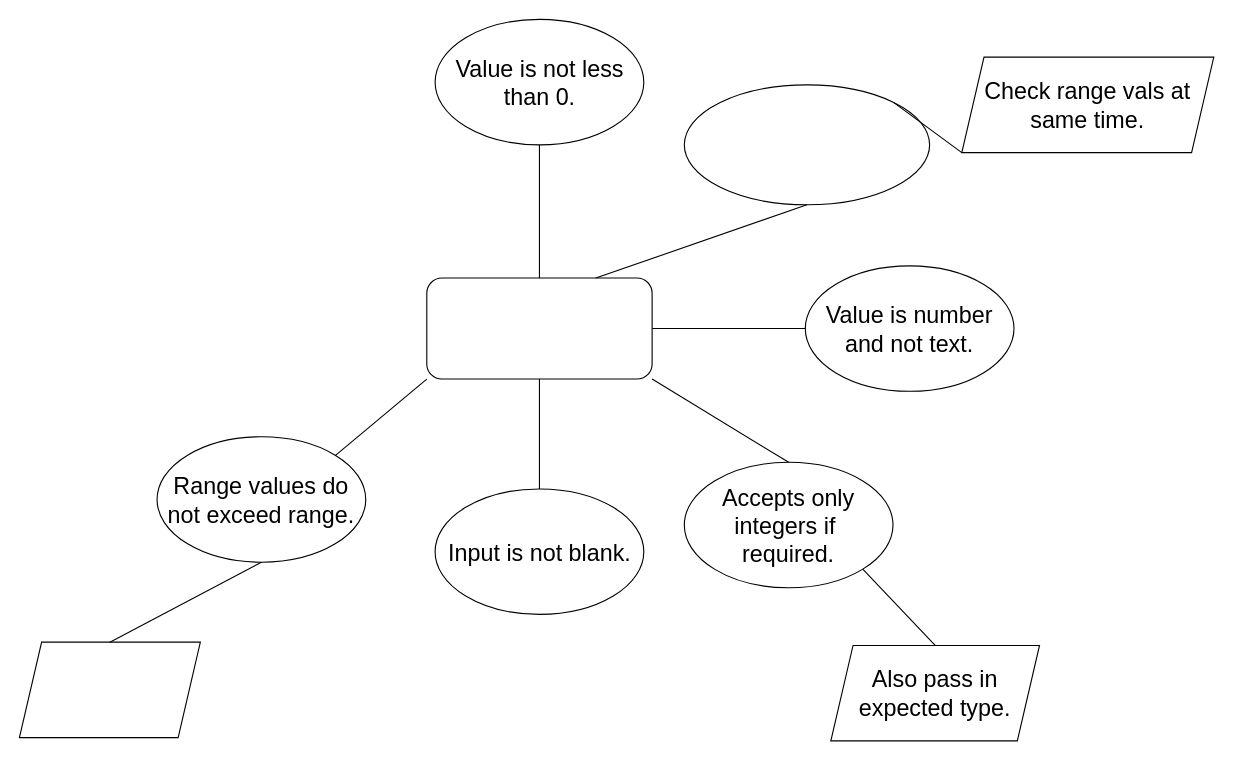
This 1233x760 diagram has some shape labels left out. Here are the shapes that lost their labels. From the top down, the centre of each, then its label:
At point (806, 144): "Range values do not overlap incorrectly.".
At point (539, 328): "Edge Cases for user input".
At point (109, 689): "Need to also pass in range.".
